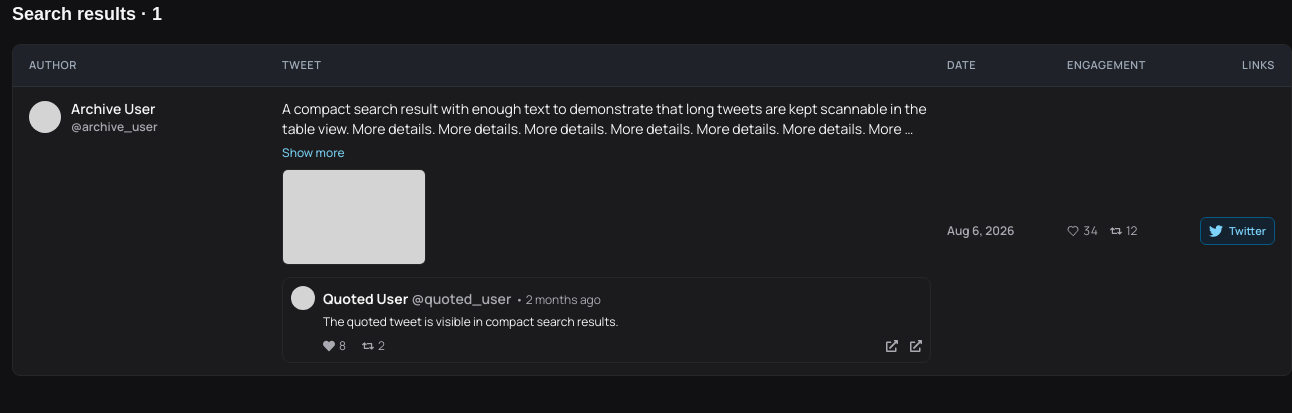
Test: UnifiedTweetList compact view › renders table-like columns and expands collapsed tweet text
Check: the column headings read "Author", "Tweet", "Date", "Engagement", "Links", in this order, box [29,57,77,72]; [282,57,322,72]; [947,57,976,72]; [1067,57,1146,72]; [1242,57,1275,72]
Check: the text "Archive User" is shown, box [71,98,158,118]
Click the button "Show more" at (313, 152), box [282,144,345,160]
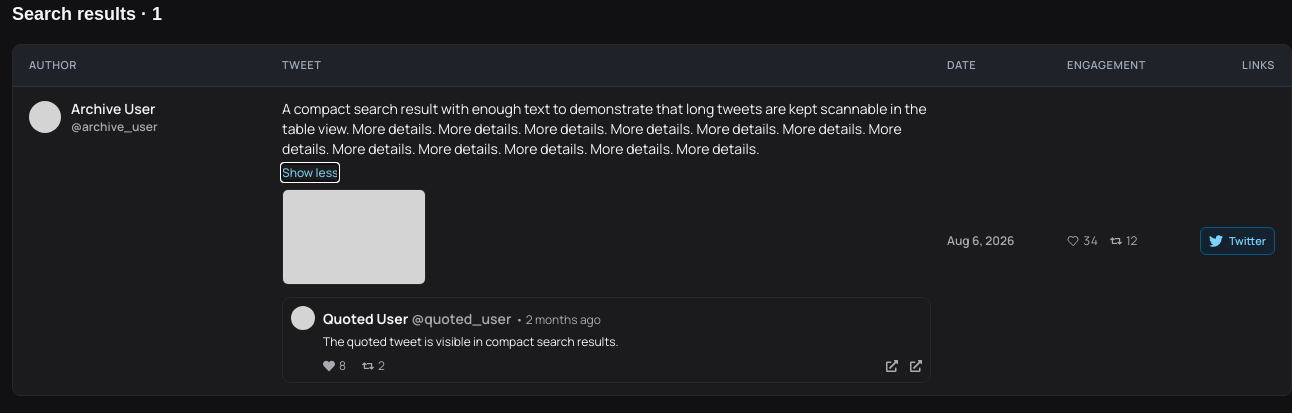
Check: the button "Show less" is shown, box [282,164,338,180]
